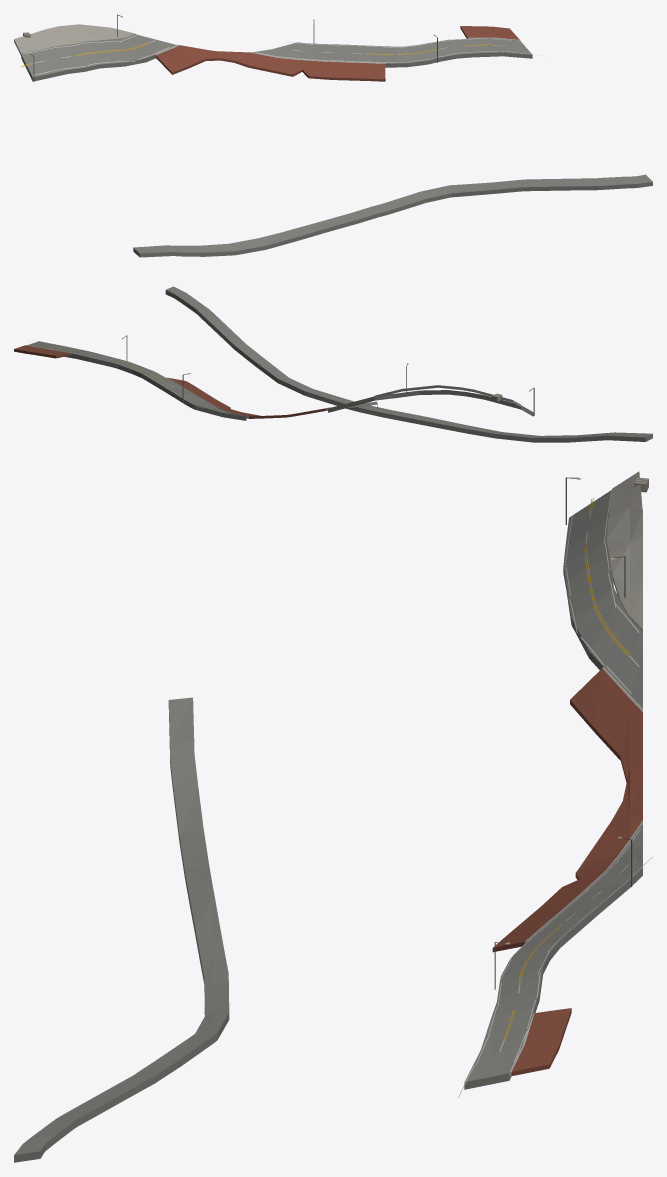
3 renders of one model, top to bottom at view 1: azimuth 30°, elevation 25°; view 2: azimuth 150°, elevation 25°; view 3: azimuth 270°, elevation 25°, orthographic. The views are drawn at different scales.
Size of the model in its own units: 152 by 46.68 by 91.98.
